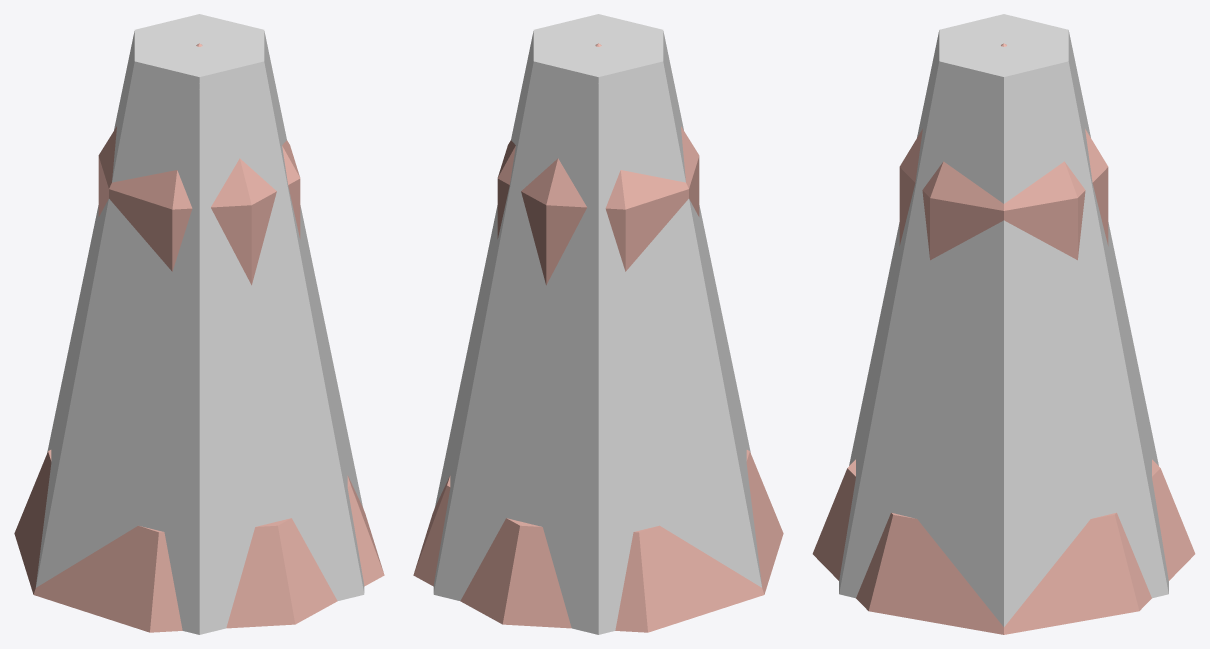
File: RoadBlock02_B1_1_01.FBX
3 renders of one model, left to right at view 1: azimuth 30°, elevation 25°; view 2: azimuth 150°, elevation 25°; view 3: azimuth 270°, elevation 25°, orthographic.
Parts seen in each view (by area): view 1: RoadBlock02_D1_Damage_1_01, RoadBlock02_D1_Live_1_01; view 2: RoadBlock02_D1_Damage_1_01, RoadBlock02_D1_Live_1_01; view 3: RoadBlock02_D1_Damage_1_01, RoadBlock02_D1_Live_1_01.
Boxes of the visible parts, <box> form: RoadBlock02_D1_Damage_1_01: <box>35,14,364,634</box>; RoadBlock02_D1_Live_1_01: <box>14,43,384,632</box>; RoadBlock02_D1_Damage_1_01: <box>433,14,762,634</box>; RoadBlock02_D1_Live_1_01: <box>413,43,783,632</box>; RoadBlock02_D1_Damage_1_01: <box>839,14,1168,626</box>; RoadBlock02_D1_Live_1_01: <box>812,43,1195,634</box>.
Bounding box in the file's own units: 0.314 × 0.462 × 0.314.
